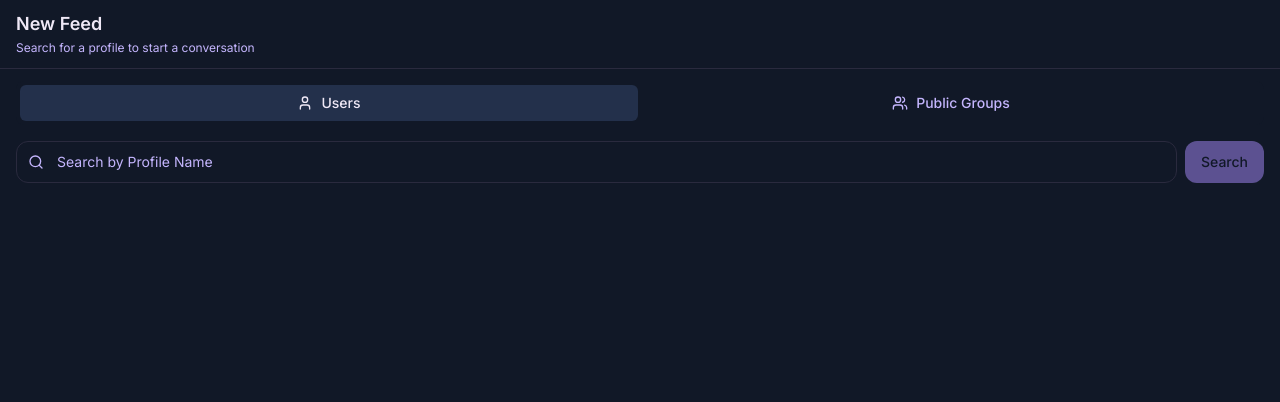
Test case: NewChatView › Public Groups Tab Content › should enable search button when group query is entered
// Switch to Public Groups
Click the tab "Public Groups": (951, 103) [642,85,1260,121]
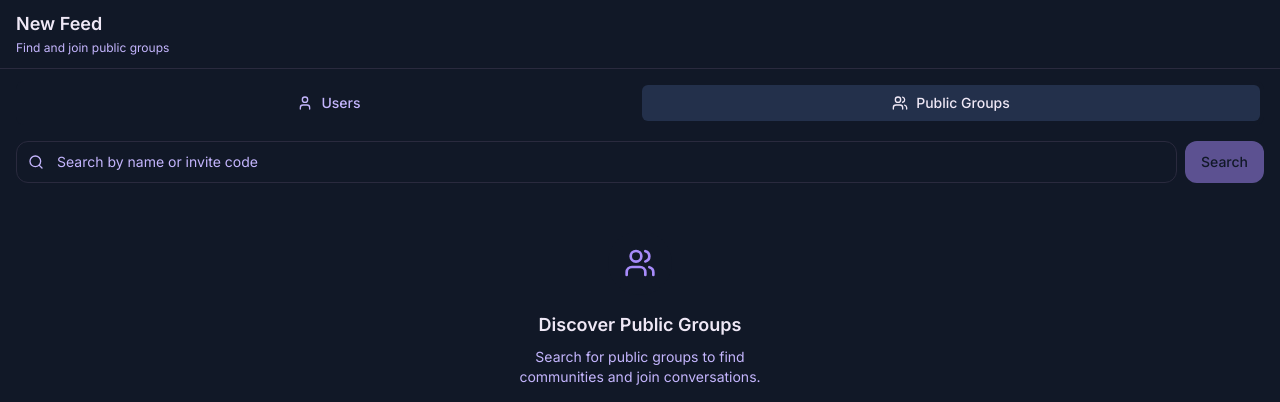
In the field with placeholder "Search by name or invite code": (596, 162) [16,141,1177,183], type "tech"
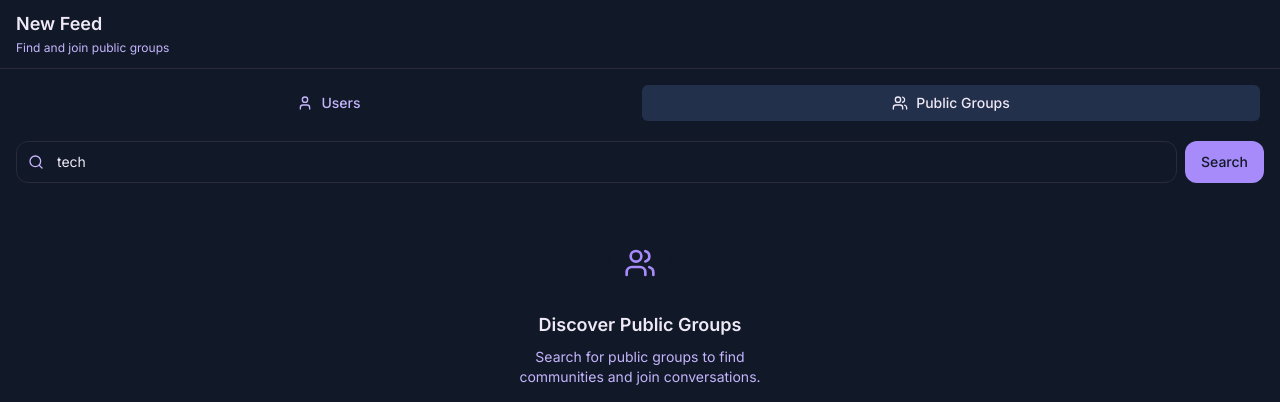
Now the button is enabled, box [1185,141,1264,183]
